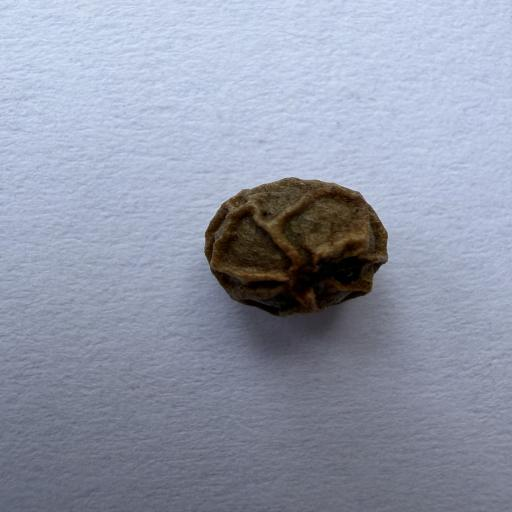Black_pepper: (198, 172, 400, 324)
